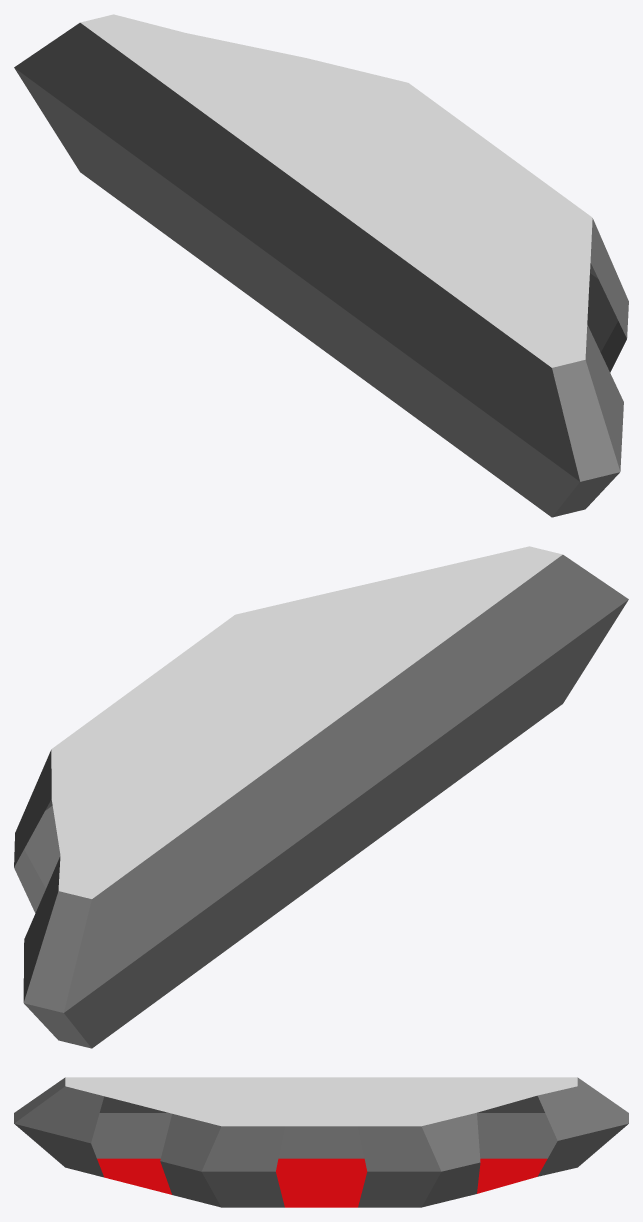
The model's file is doors.fbx.
3 renders of one model, top to bottom at view 1: azimuth 30°, elevation 25°; view 2: azimuth 150°, elevation 25°; view 3: azimuth 270°, elevation 25°, orthographic. The views are drawn at different scales.
Parts seen in each view (by area): view 1: Doors; view 2: Doors; view 3: Doors.
Boxes of the visible parts, x1,y1,x2,y2 form: Doors: (14, 14, 628, 517); Doors: (14, 546, 628, 1048); Doors: (14, 1077, 628, 1207).
Size of the model in its own units: 660 by 426 by 2921.
